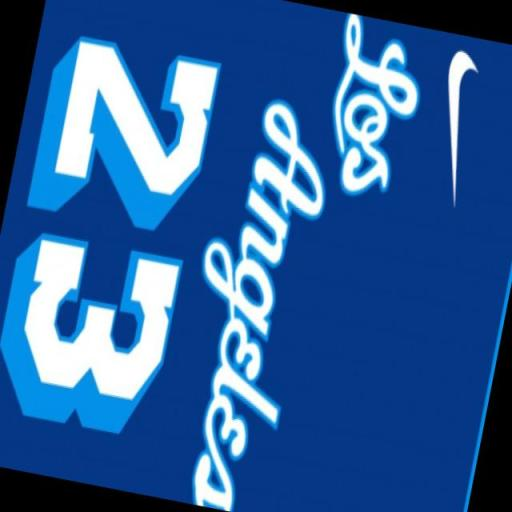Nike: (404, 32, 494, 233)
